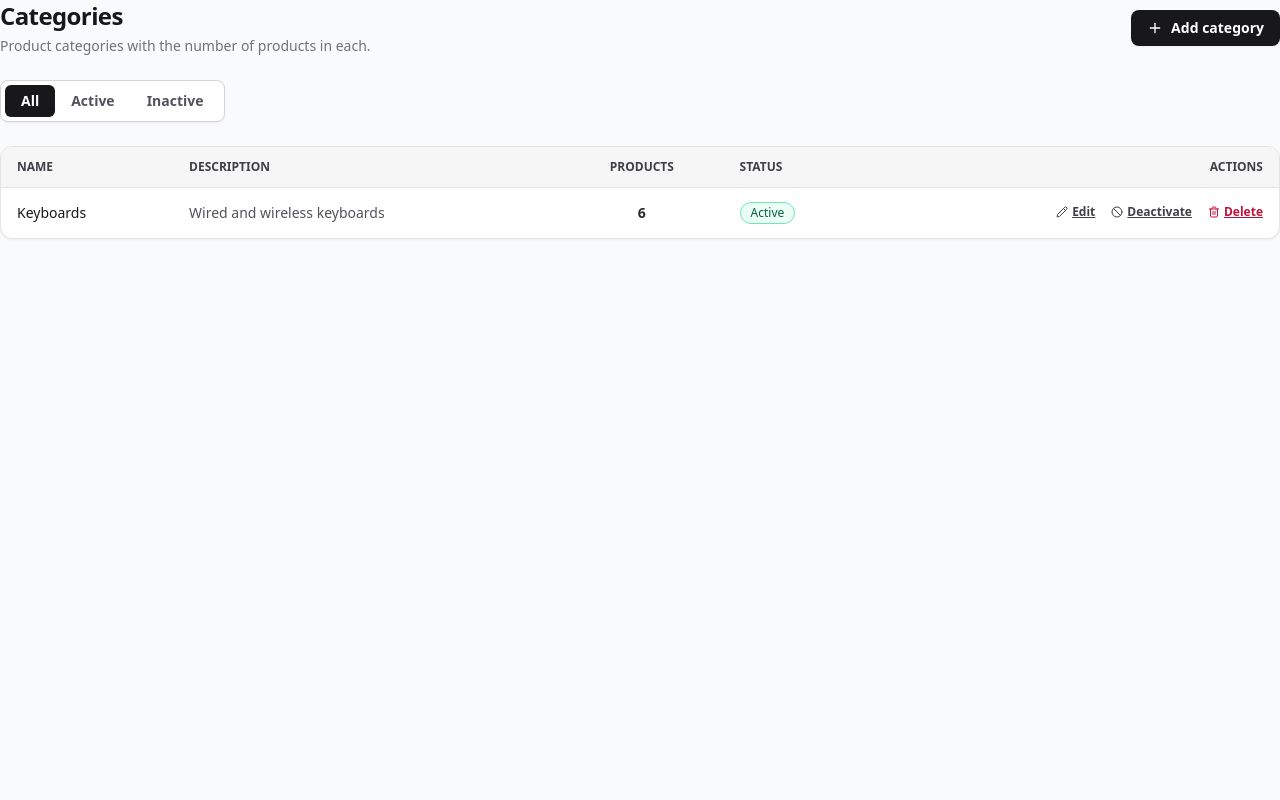
Test: CategoriesPage (IMS-09.1 / FR-CAT-04) › after confirming Deactivate: closes the dialog, shows the message and reloads the list
Click the button with aria-label "Deactivate Keyboards" at (1152, 212), box [1111,204,1192,220]
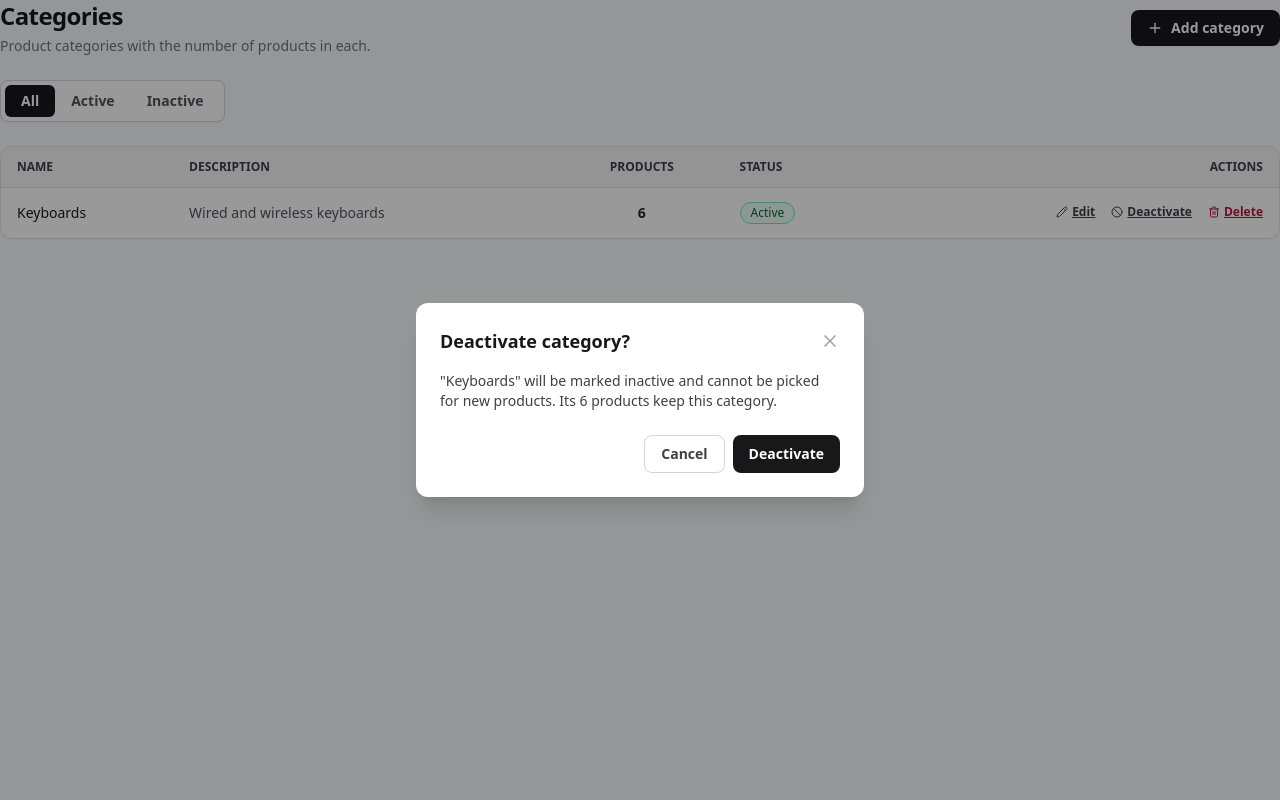
Click the button "Deactivate" at (786, 454), box [733,435,840,473]
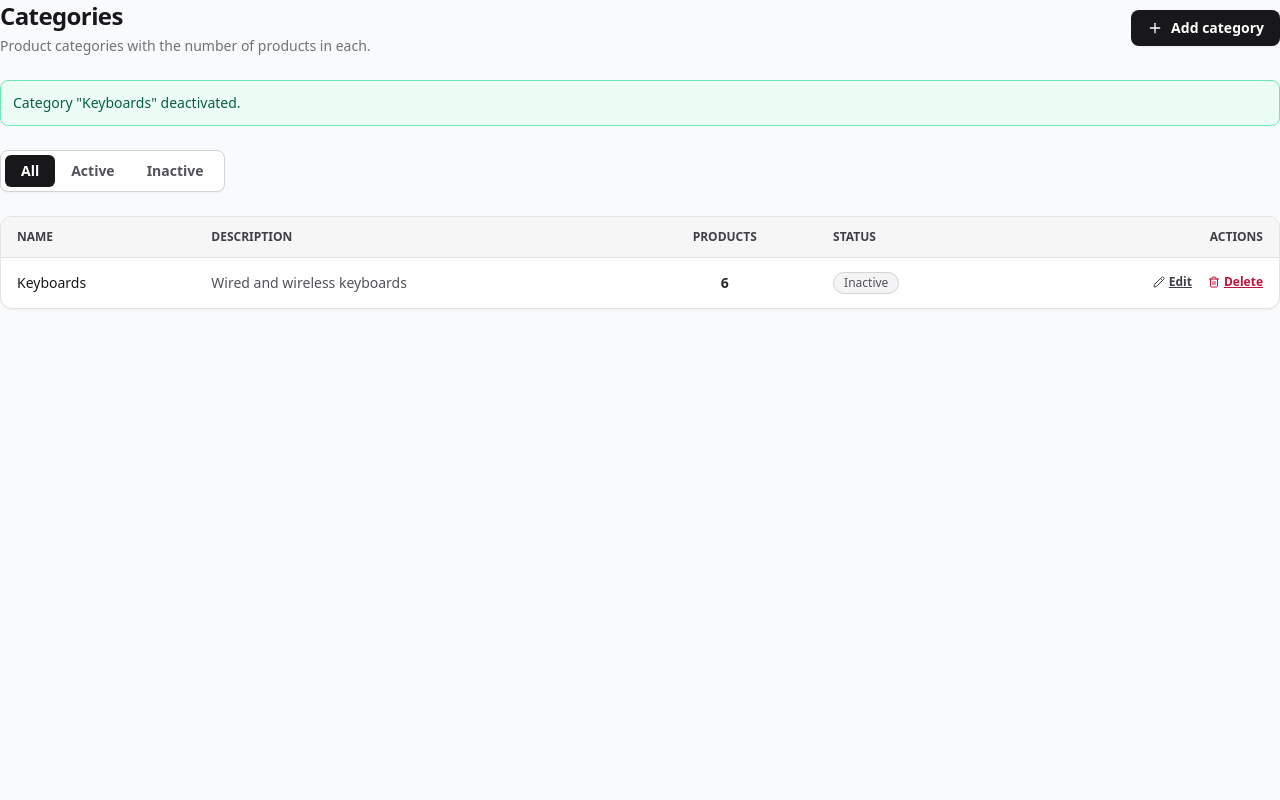
Check: the text "Category \"Keyboards\" deactivated." is shown, box [0,80,1279,126]
Check: the dialog is gone
Check: the text "Keyboards" reads "Keyboards Wired and wireless keyboards 6 Inactive Edit Delete", box [1,258,1279,308]
